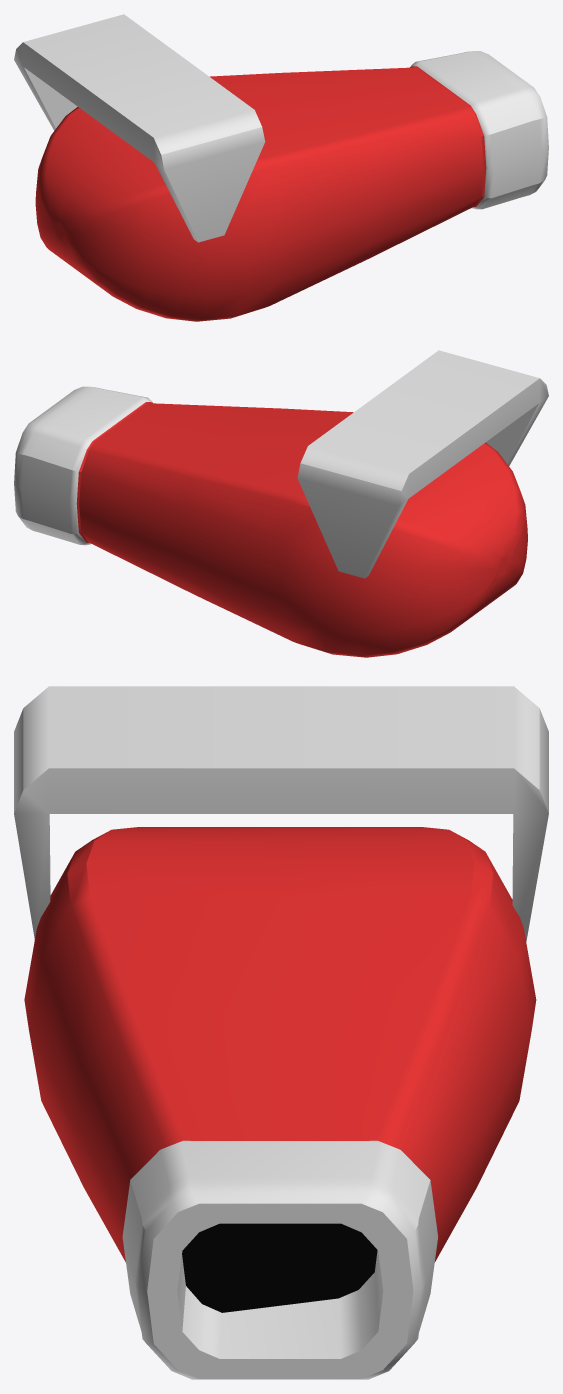
Rendered from canon.fbx.
3 views of the same model, one above another, from view 1: azimuth 30°, elevation 25°; view 2: azimuth 150°, elevation 25°; view 3: azimuth 270°, elevation 25° (orthographic). The views are drawn at different scales.
Parts seen in each view (by area): view 1: pCylinder5, pCube34; view 2: pCylinder5, pCube34; view 3: pCylinder5, pCube34.
Boxes of the visible parts, <box> form: pCylinder5: <box>35,51,548,321</box>; pCube34: <box>14,14,265,242</box>; pCylinder5: <box>14,386,527,657</box>; pCube34: <box>297,350,548,578</box>; pCylinder5: <box>24,827,536,1379</box>; pCube34: <box>14,686,548,941</box>.
Size of the model in its own units: 233 by 105 by 134.
